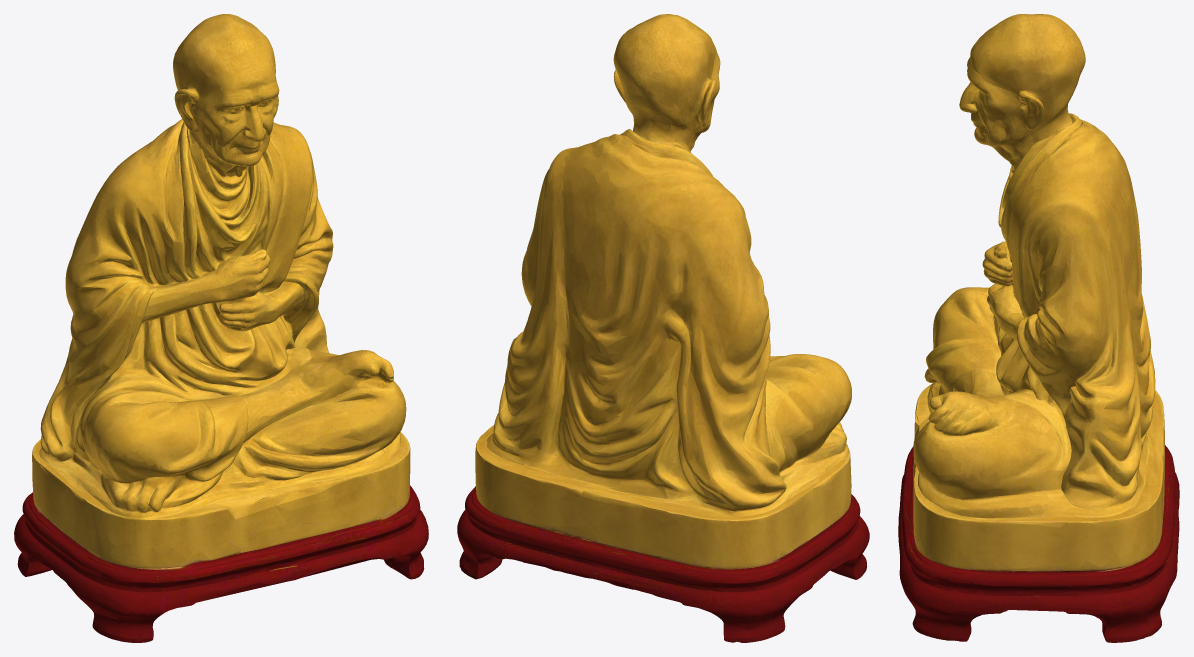
Rendered from w3hsomdej.glb.
3 renders of one model, left to right at view 1: azimuth 30°, elevation 25°; view 2: azimuth 150°, elevation 25°; view 3: azimuth 270°, elevation 25°, orthographic.
Parts seen in each view (by area): view 1: output_unwrapped; view 2: output_unwrapped; view 3: output_unwrapped.
Boxes of the visible parts, bbox=[...] form: output_unwrapped: bbox=[14, 14, 428, 642]; output_unwrapped: bbox=[457, 14, 869, 642]; output_unwrapped: bbox=[898, 14, 1179, 642].
Bounding box in the file's own units: 0.3769 × 0.58 × 0.2684.
1 material, 1 textured.
